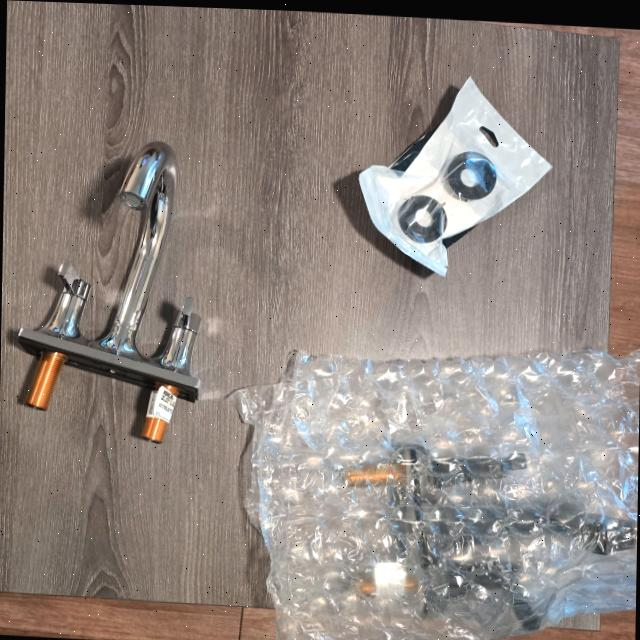10: (17, 142, 198, 442)
13: (358, 77, 550, 275)
9c: (235, 350, 640, 640)
